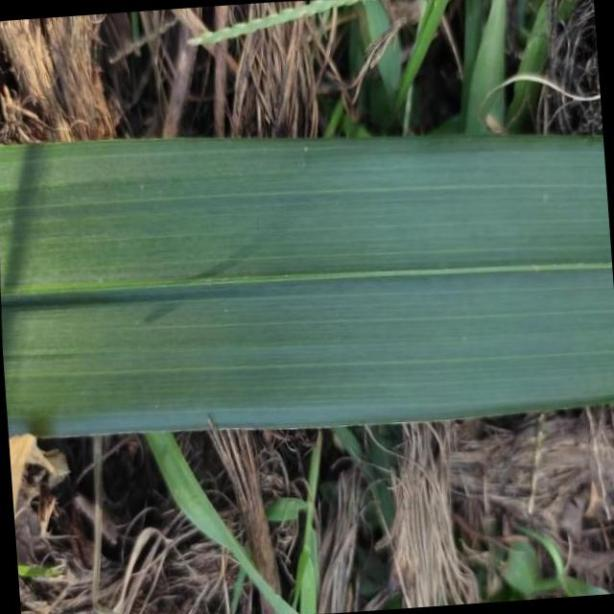Healthy: (3, 139, 614, 441)
